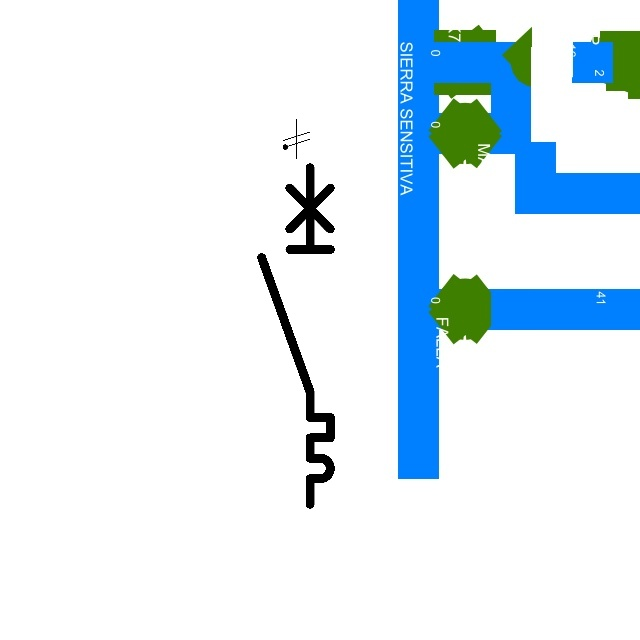interruptor_termomagnetico: (253, 159, 339, 513)
